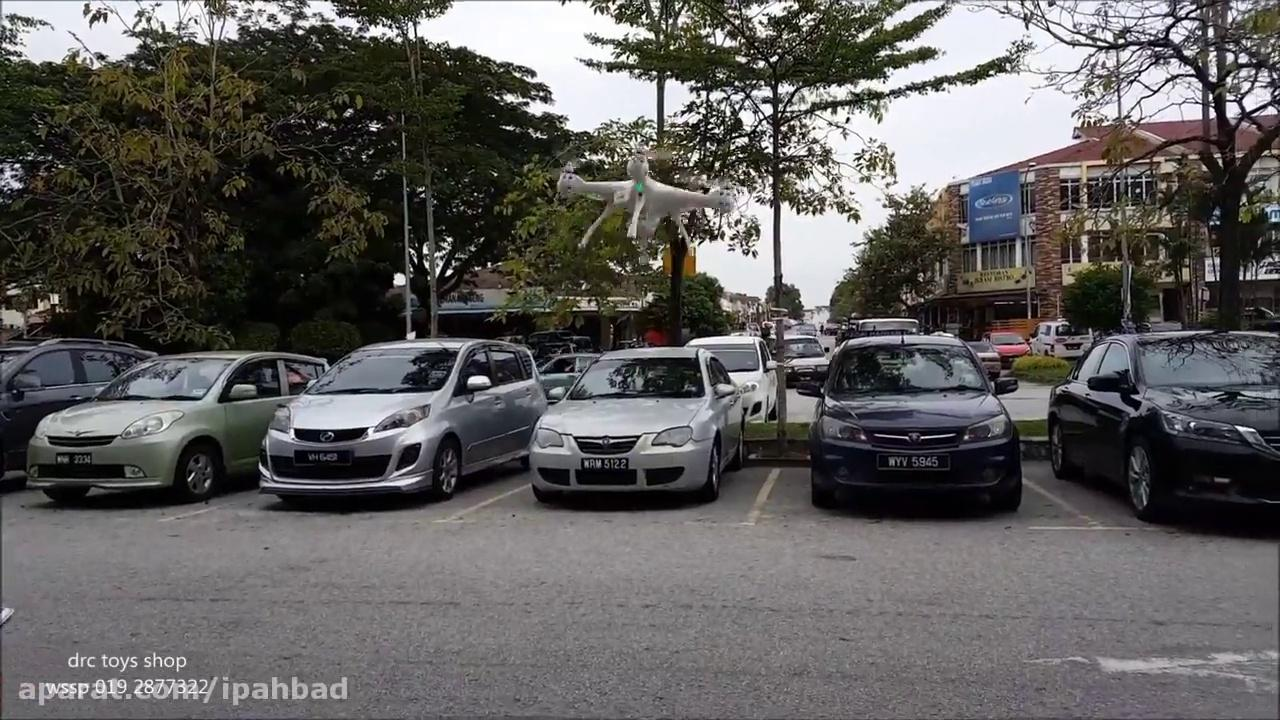drone: (553, 147, 733, 259)
